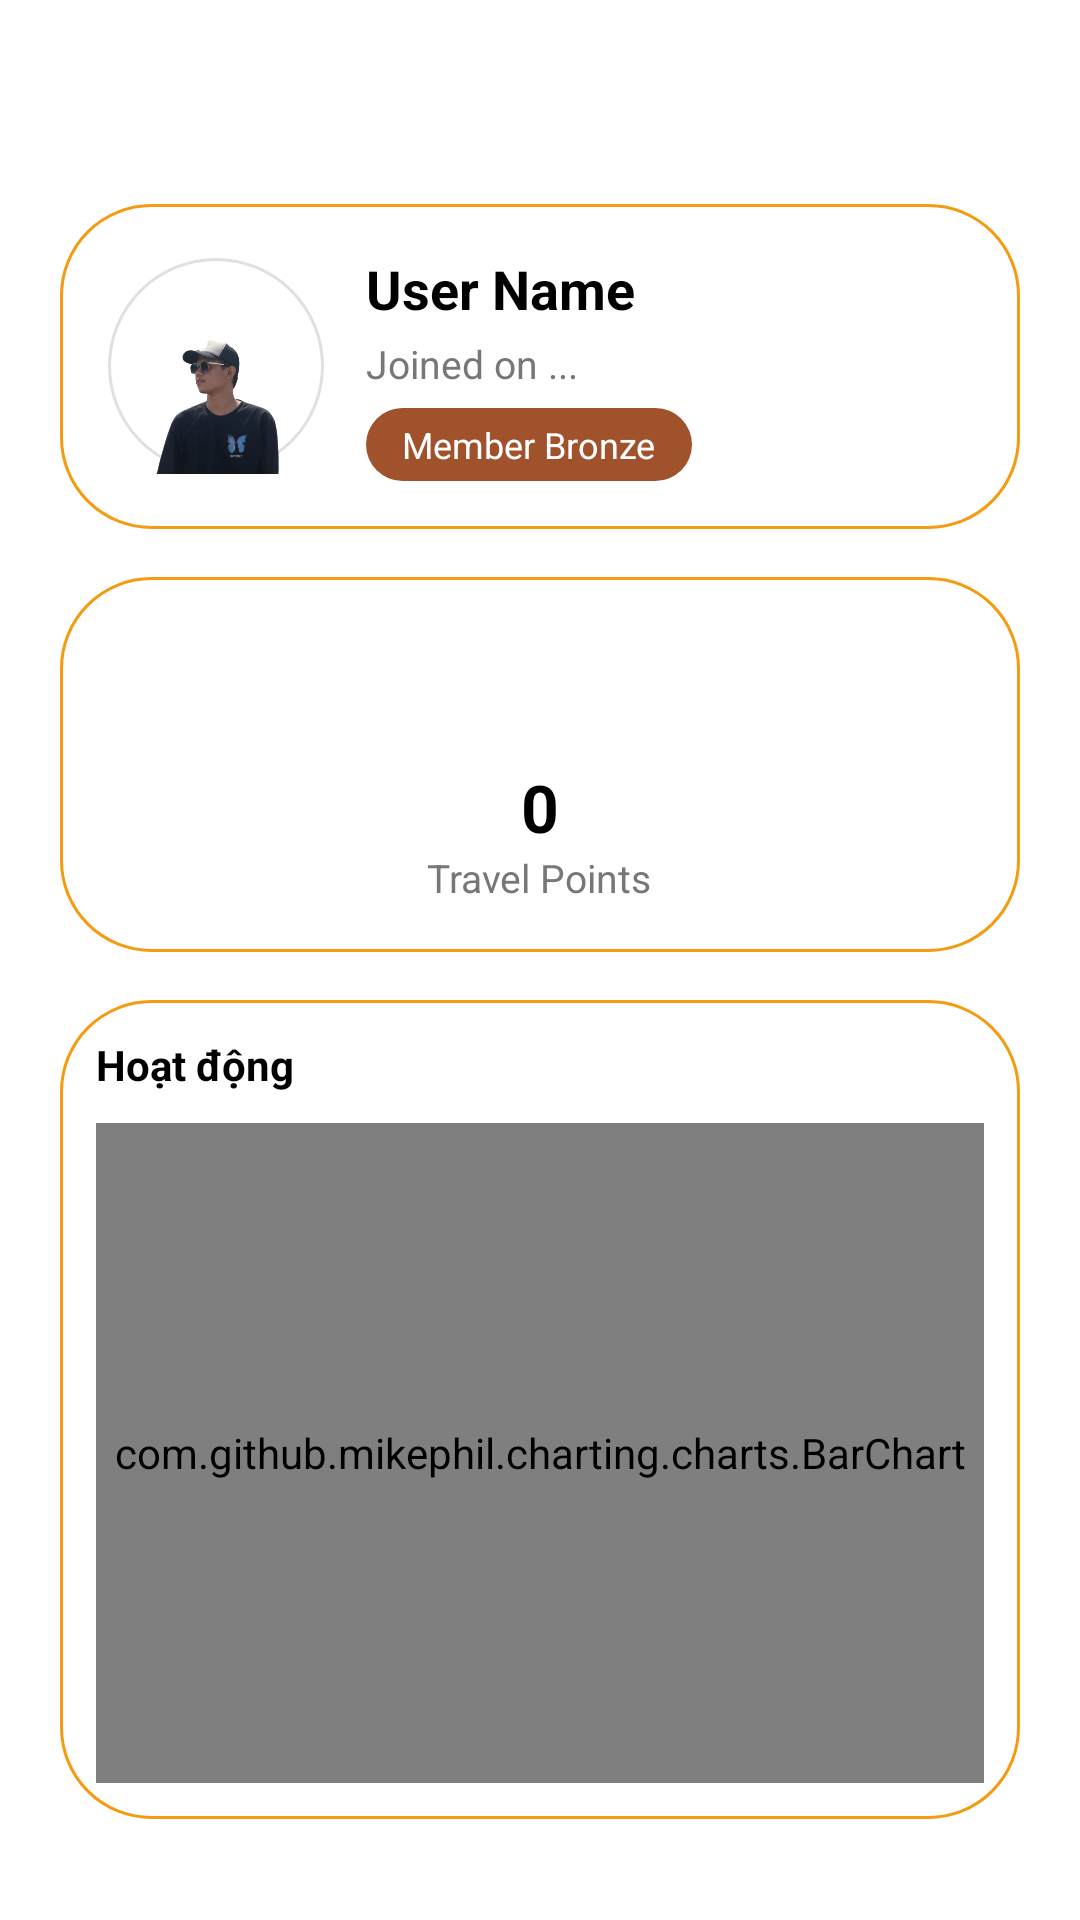

Point at icon controls on the screen. Image size 1080 x 1920, points as (x=x, y=y).
avttest: (x=216, y=366)
